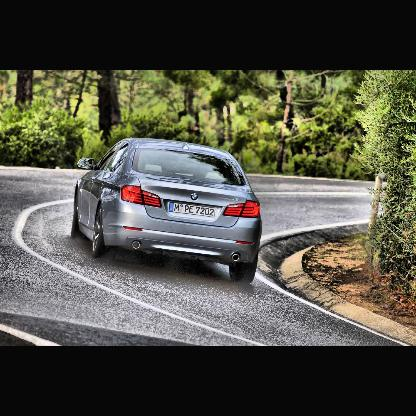BMW ActiveHybrid 5 Sedan 2012: (71, 134, 268, 287)
